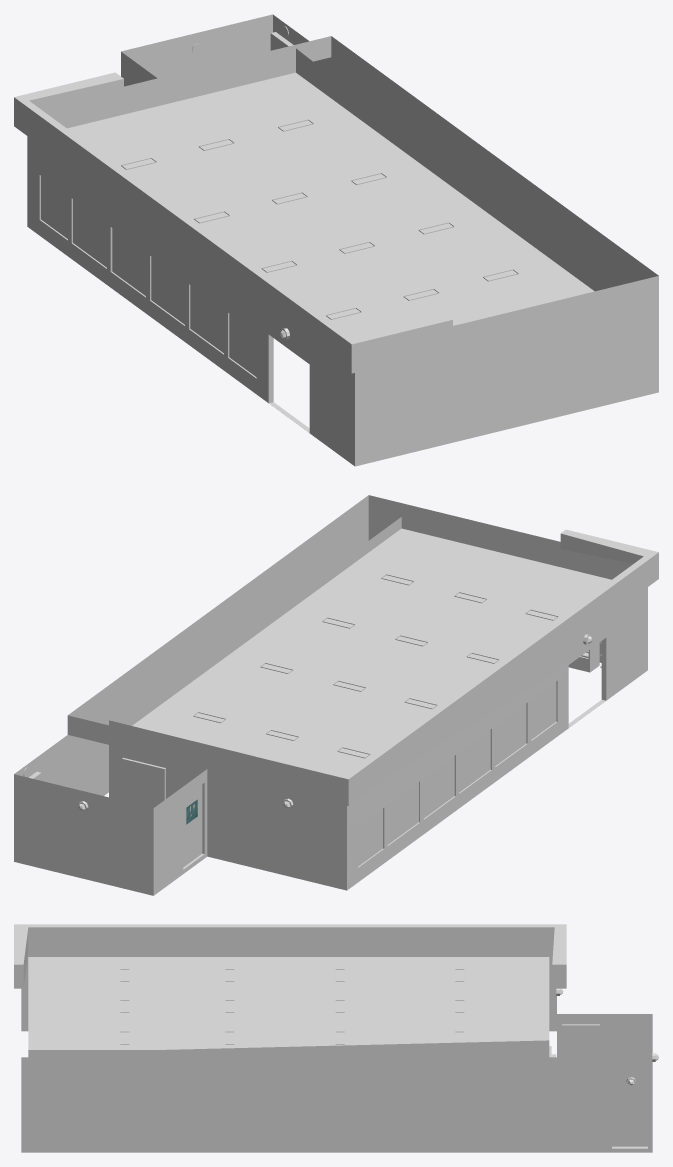
The model's file is GarageStation.fbx.
3 views of the same model, one above another, from view 1: azimuth 30°, elevation 25°; view 2: azimuth 150°, elevation 25°; view 3: azimuth 270°, elevation 25° (orthographic). The views are drawn at different scales.
Parts seen in each view (by area): view 1: Building; view 2: Building; view 3: Building.
Part boxes in pixels (x1,y1,x2,y2): Building: (14, 14, 658, 466); Building: (14, 495, 658, 895); Building: (14, 924, 652, 1152).
Size of the model in its own units: 1256 by 483 by 2696.
22 materials, 3 textured.
